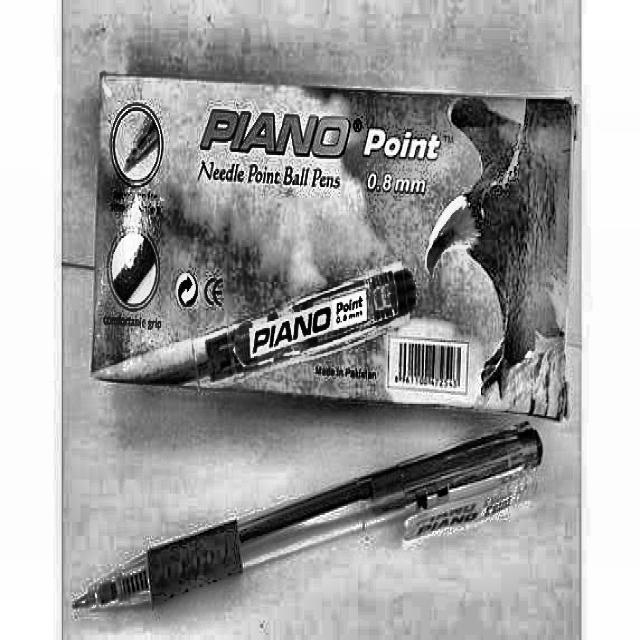Pen: (62, 427, 546, 626)
